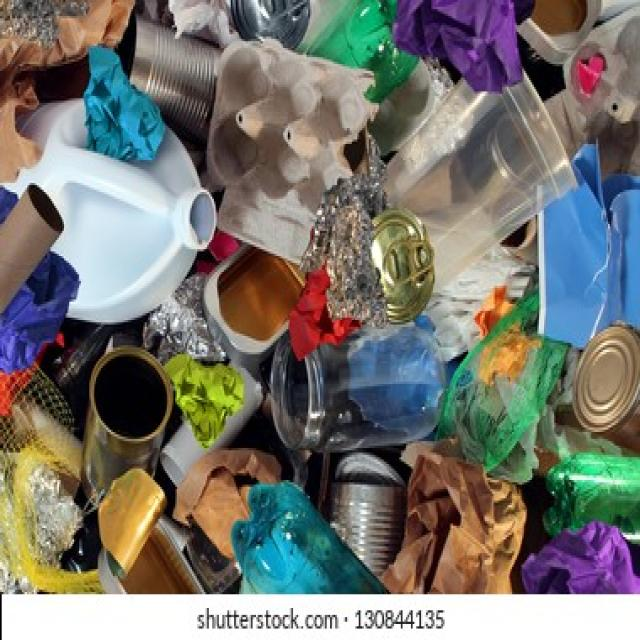cardboard: (242, 64, 344, 247)
metal: (81, 364, 165, 476), (335, 462, 398, 553), (574, 348, 630, 434), (380, 226, 430, 318)
paper: (429, 494, 514, 578)
plastic: (55, 116, 182, 295)
